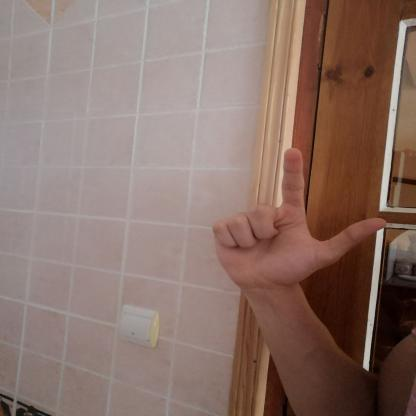LAAM: (199, 139, 398, 303)
